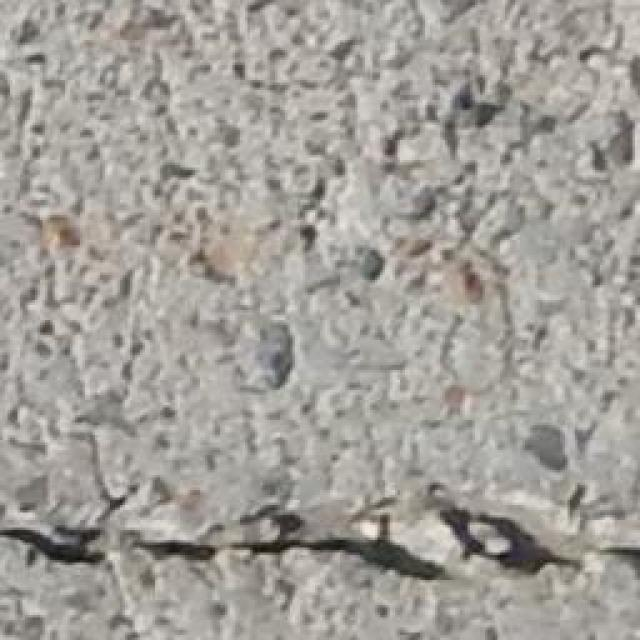concrete-crack: (3, 490, 640, 593)
